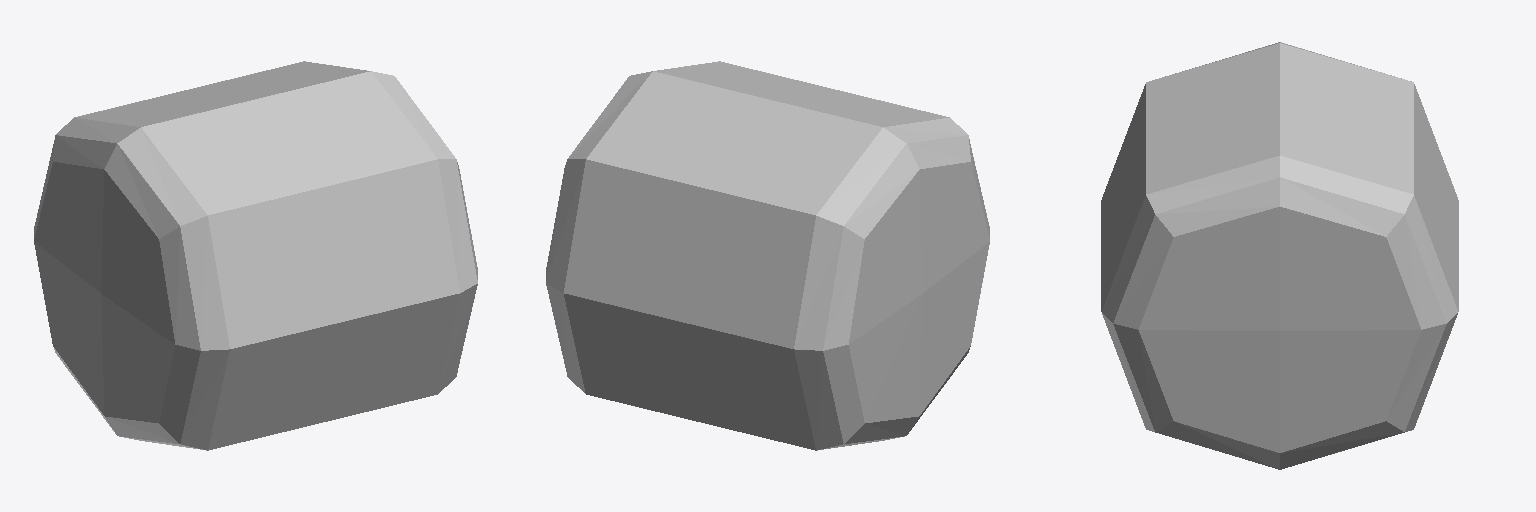
3 renders of one model, left to right at view 1: azimuth 30°, elevation 25°; view 2: azimuth 150°, elevation 25°; view 3: azimuth 270°, elevation 25°, orthographic.
Parts seen in each view (by area): view 1: part7:wheel 3; view 2: part7:wheel 3; view 3: part7:wheel 3.
Boxes of the visible parts, <box> form: part7:wheel 3: <box>34,61,477,450</box>; part7:wheel 3: <box>546,61,989,450</box>; part7:wheel 3: <box>1101,42,1458,469</box>.
Size of the model in its own units: 0.0502 by 0.0486 by 0.0502.